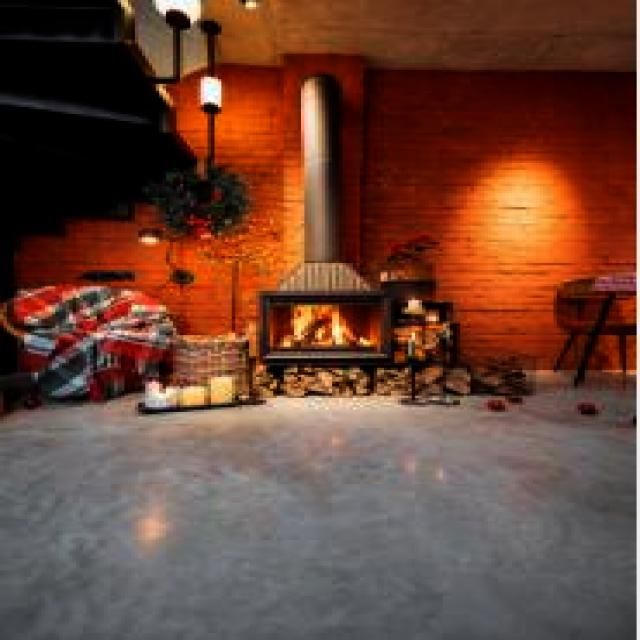Fire_Save: (277, 306, 387, 352)
